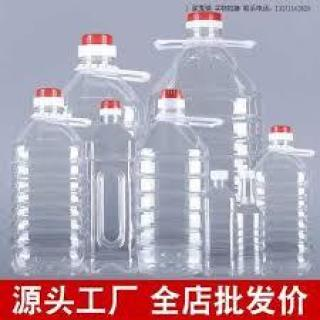Plastic-bottle: (148, 10, 269, 280), (139, 89, 226, 280), (12, 86, 92, 280), (58, 31, 153, 167), (257, 122, 320, 280), (85, 99, 139, 280), (229, 167, 270, 280)
